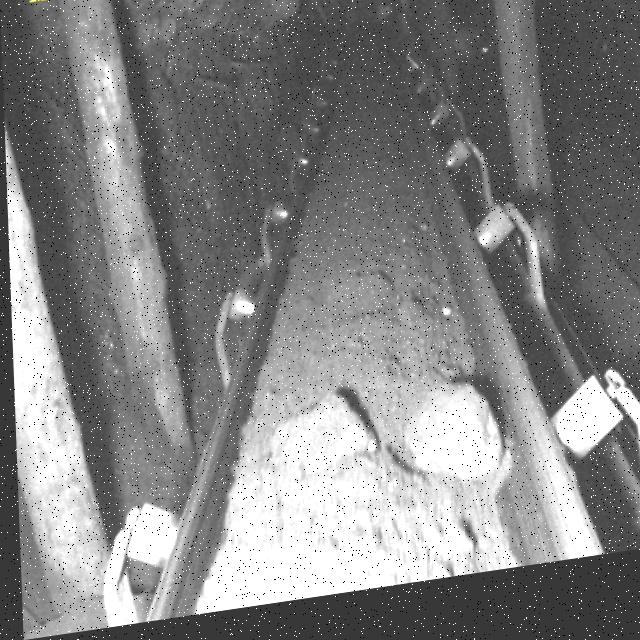large_sized_coal: (398, 388, 496, 491), (272, 404, 366, 485)
